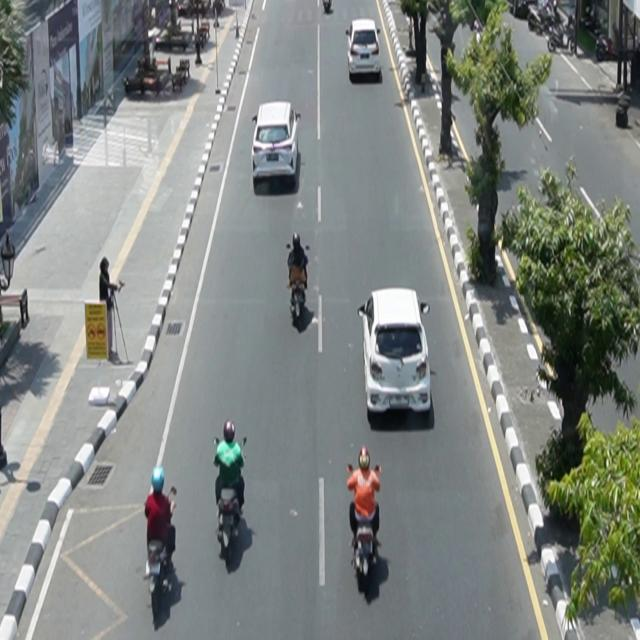car: (358, 288, 432, 418), (252, 101, 302, 185), (346, 19, 382, 79)
